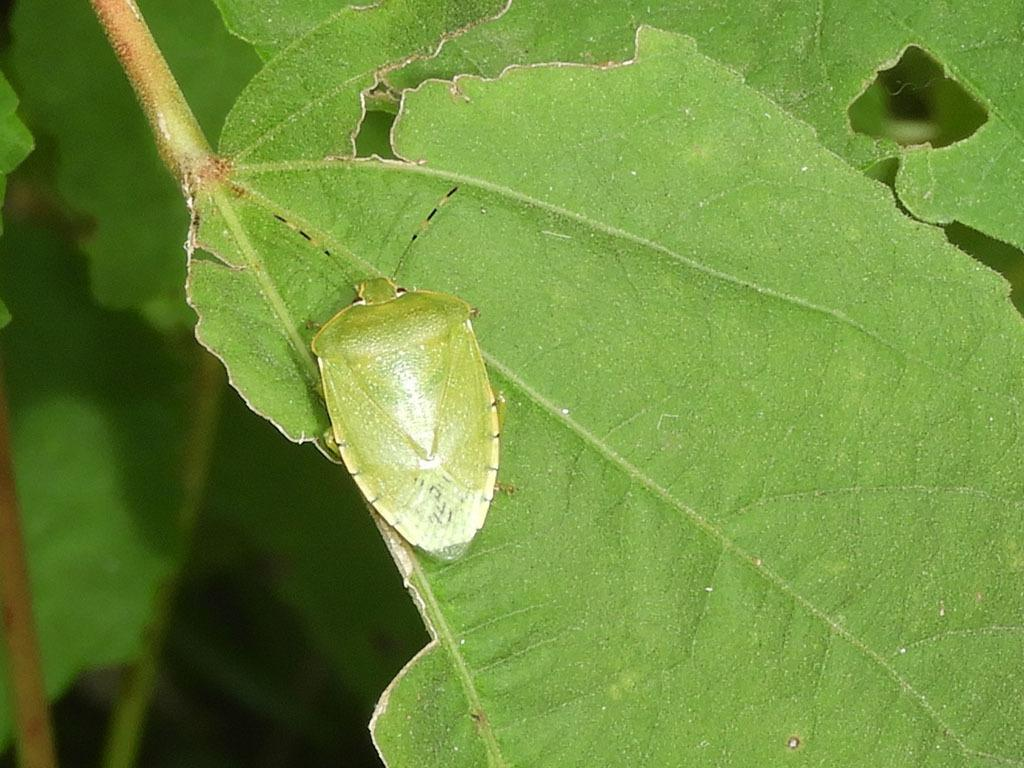stink_bugs: (209, 159, 632, 589)
